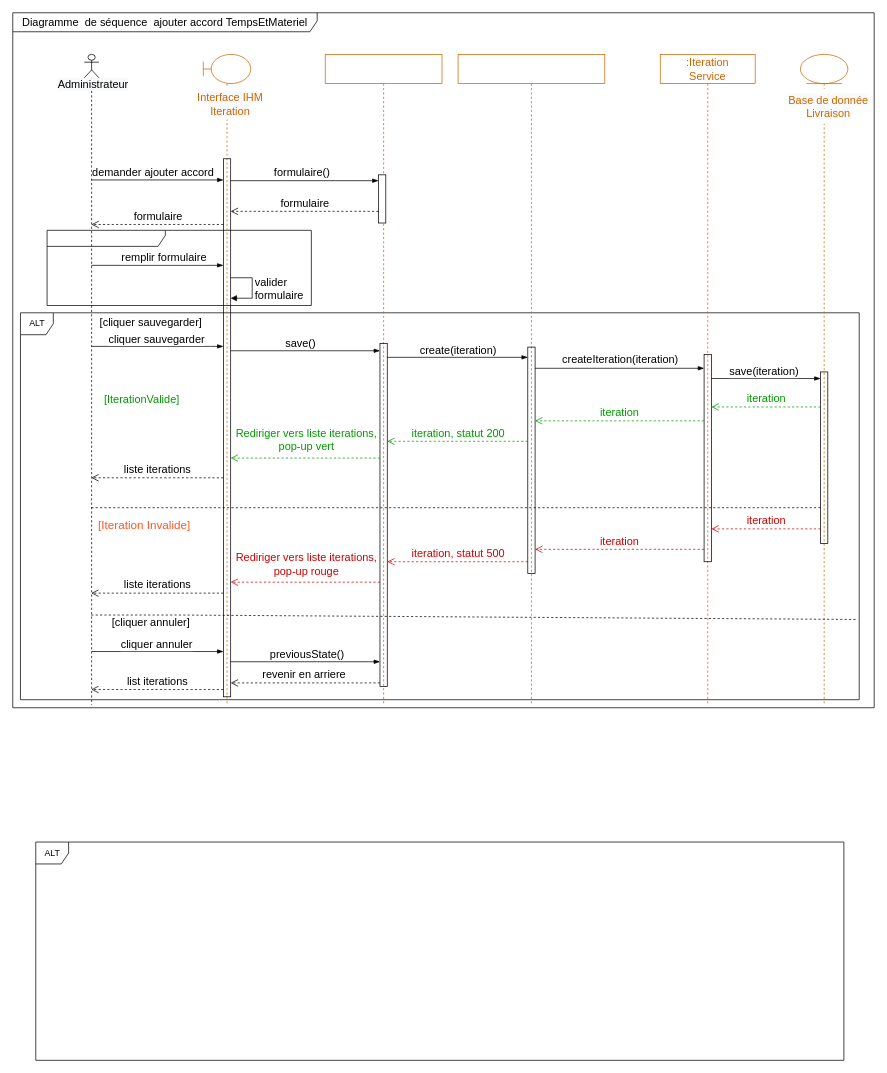
This 887x1073 diagram has some shape labels left out. The box of each missing label's shape, as (x1, y1, x2, y2) in pixels:
:Iteration Controler: (457, 54, 605, 705)
<<component>> Iteration: (324, 54, 442, 705)
alt: formulaire valide: (46, 230, 311, 306)
